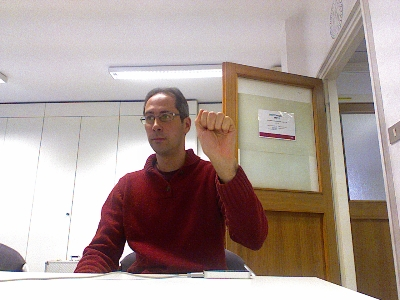石头: (193, 108, 237, 164)
